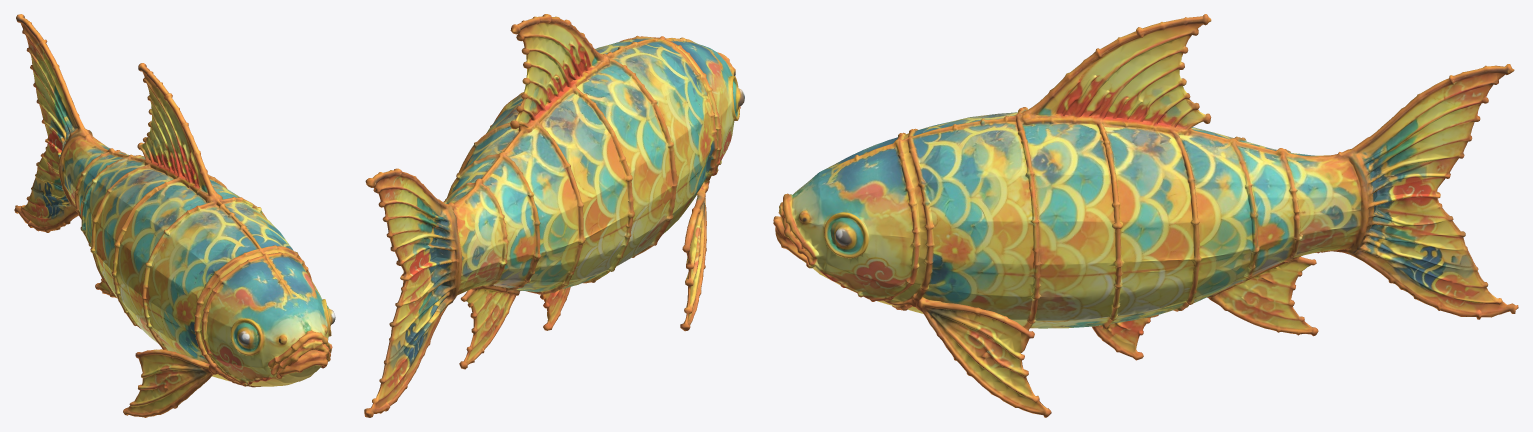
The model's file is 鲮鱼鱼灯50000.glb.
3 renders of one model, left to right at view 1: azimuth 30°, elevation 25°; view 2: azimuth 150°, elevation 25°; view 3: azimuth 270°, elevation 25°, orthographic. The views are drawn at different scales.
Visible parts, largest first — view 1: tripo_node_6f7d07a8-ef48-4983-abad-0c2179824c6a; view 2: tripo_node_6f7d07a8-ef48-4983-abad-0c2179824c6a; view 3: tripo_node_6f7d07a8-ef48-4983-abad-0c2179824c6a.
Boxes of the visible parts, x1,y1,x2,y2 form: tripo_node_6f7d07a8-ef48-4983-abad-0c2179824c6a: (14,14,335,417); tripo_node_6f7d07a8-ef48-4983-abad-0c2179824c6a: (364,14,744,417); tripo_node_6f7d07a8-ef48-4983-abad-0c2179824c6a: (773,14,1518,417).
Bounding box in the file's own units: 0.3203 × 0.5257 × 1.
Materials: 1 (1 with a texture image).
